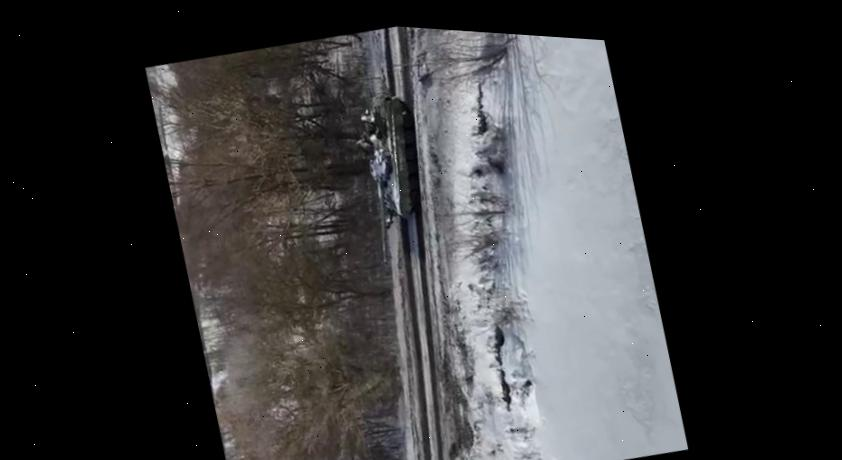tank: (339, 83, 445, 271)
